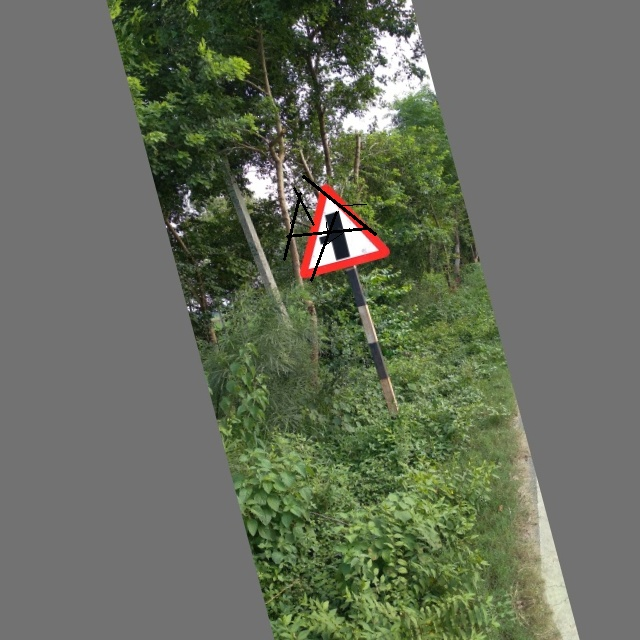Side_Road_Left: (276, 175, 386, 281)
